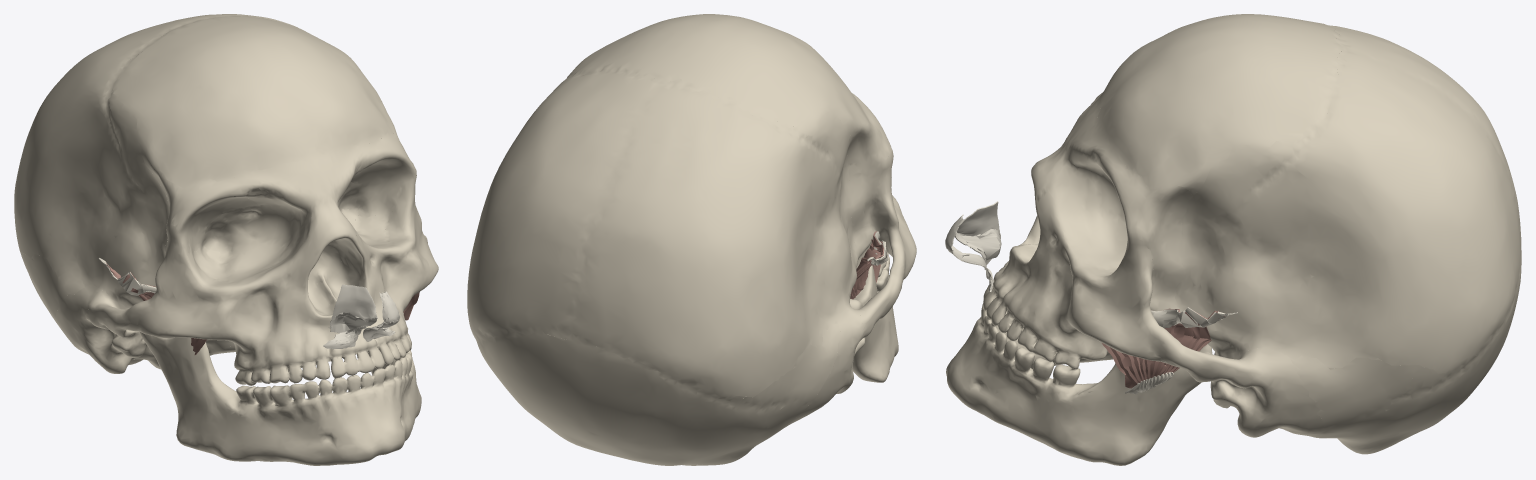
The model's file is classical-bone.glb.
The picture shows the model from 3 angles, left to right: view 1: azimuth 30°, elevation 25°; view 2: azimuth 150°, elevation 25°; view 3: azimuth 270°, elevation 25°; orthographic projection. The views are drawn at different scales.
Visible parts, largest first — view 1: classical-illustrative-bone, Upper lateral cartilage -1, Alar cartilage -1, Zygomatic aponeurosis -1, Upper lateral cartilage 1; view 2: classical-illustrative-bone, Masseter -1; view 3: classical-illustrative-bone, Masseter 1, Upper lateral cartilage -1, Zygomatic aponeurosis 1.
Boxes of the visible parts, bbox=[...] form: classical-illustrative-bone: bbox=[14, 14, 438, 465]; Upper lateral cartilage -1: bbox=[329, 284, 377, 333]; Alar cartilage -1: bbox=[323, 326, 366, 349]; Zygomatic aponeurosis -1: bbox=[98, 258, 156, 295]; Upper lateral cartilage 1: bbox=[376, 291, 399, 328]; classical-illustrative-bone: bbox=[467, 14, 916, 465]; Masseter -1: bbox=[850, 231, 887, 299]; classical-illustrative-bone: bbox=[946, 14, 1521, 465]; Masseter 1: bbox=[1102, 308, 1225, 388]; Upper lateral cartilage -1: bbox=[955, 201, 1001, 259]; Zygomatic aponeurosis 1: bbox=[1151, 307, 1237, 328].
Size of the model in its own units: 0.1203 by 0.1328 by 0.1785.
